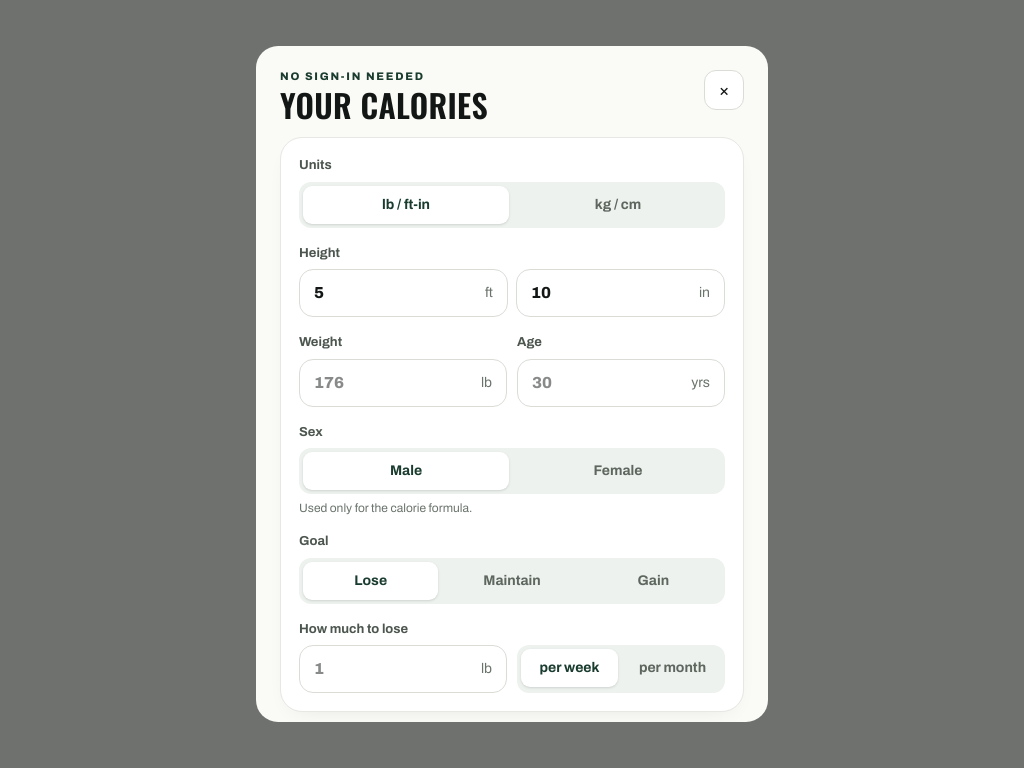
Test: the rate question › is not asked when maintaining
Click the button "Maintain" at (512, 581), box [444,562,580,600]
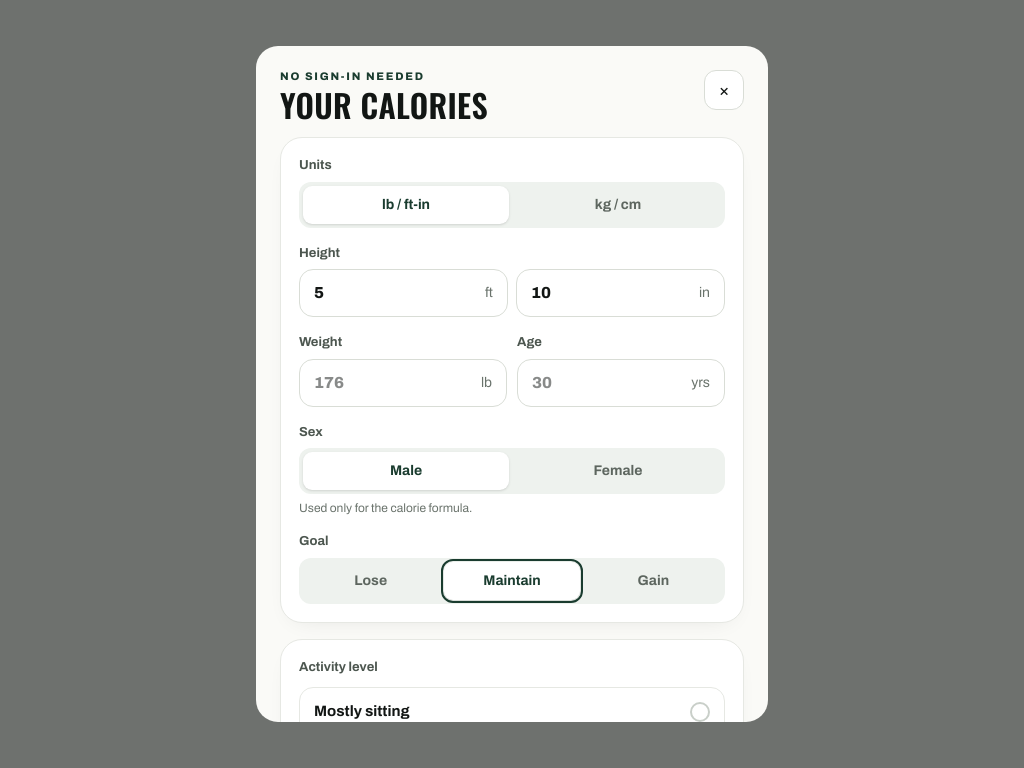
Result: the text labelled "How much to" is gone
